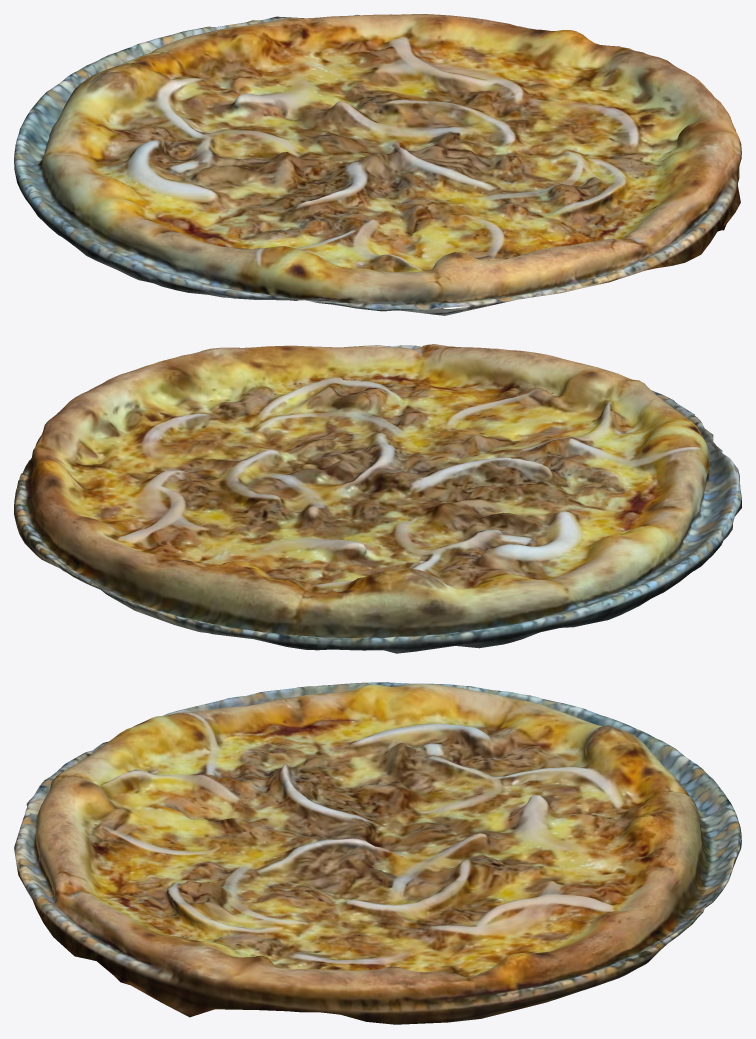
File: tuna.glb
3 views of the same model, one above another, from view 1: azimuth 30°, elevation 25°; view 2: azimuth 150°, elevation 25°; view 3: azimuth 270°, elevation 25° (orthographic).
Visible parts, largest first — view 1: ObjectCapture; view 2: ObjectCapture; view 3: ObjectCapture.
Part boxes in pixels (box(x1,y1,x2,y2)): ObjectCapture: box(14, 14, 741, 315); ObjectCapture: box(14, 344, 741, 653); ObjectCapture: box(14, 682, 741, 1024).
Size of the model in its own units: 0.721 by 0.0882 by 0.715.
Materials: 1 (1 with a texture image).
